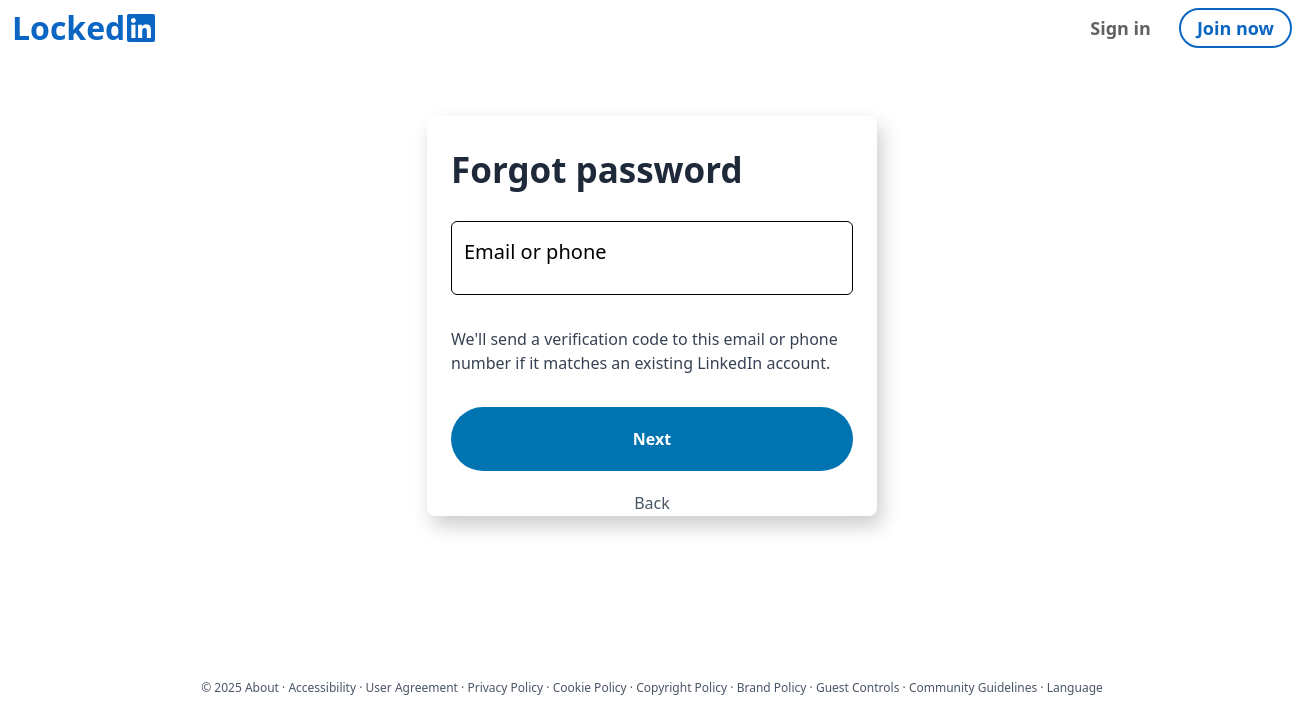
Test: ForgotPasswordForm › shows API error message for non-existent user
The width and height of the screenshot is (1304, 720).
Type "nonexistent@example.com" into the field with test id "email-input" at (652, 258), box [460,230,844,286]
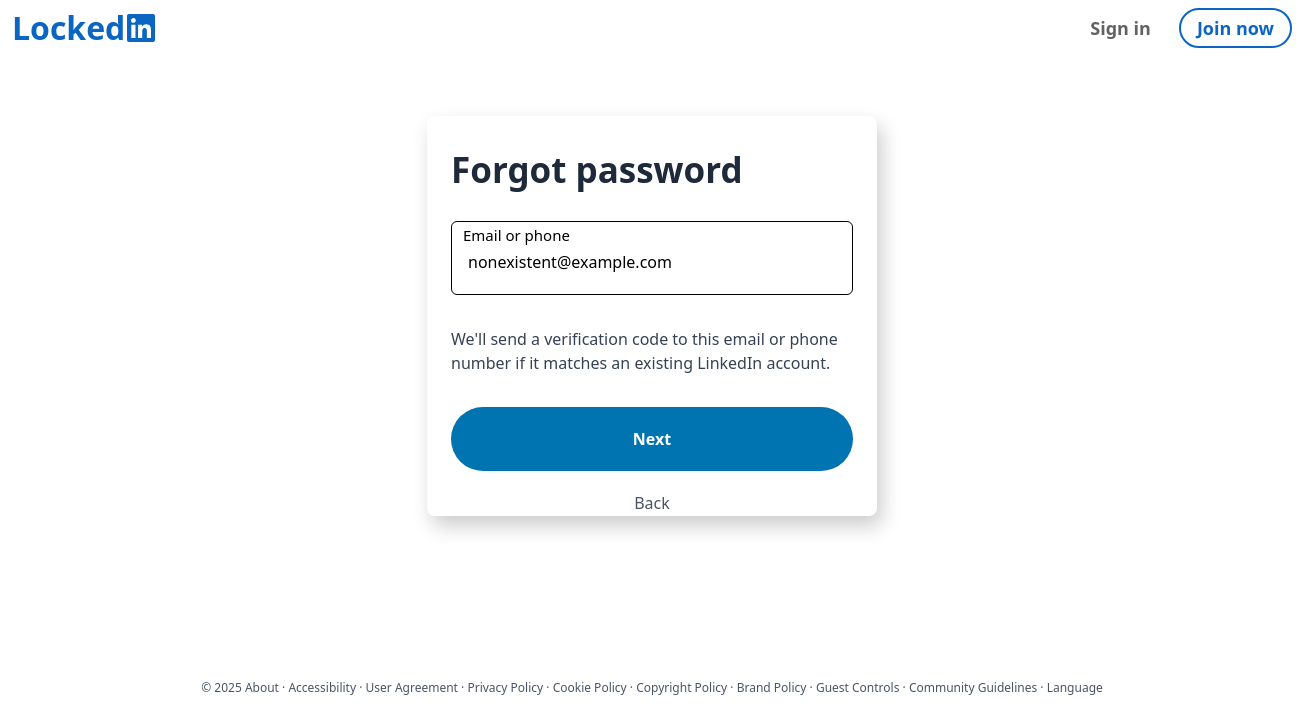
Click the button "Next" at (652, 438), box [451,406,853,470]
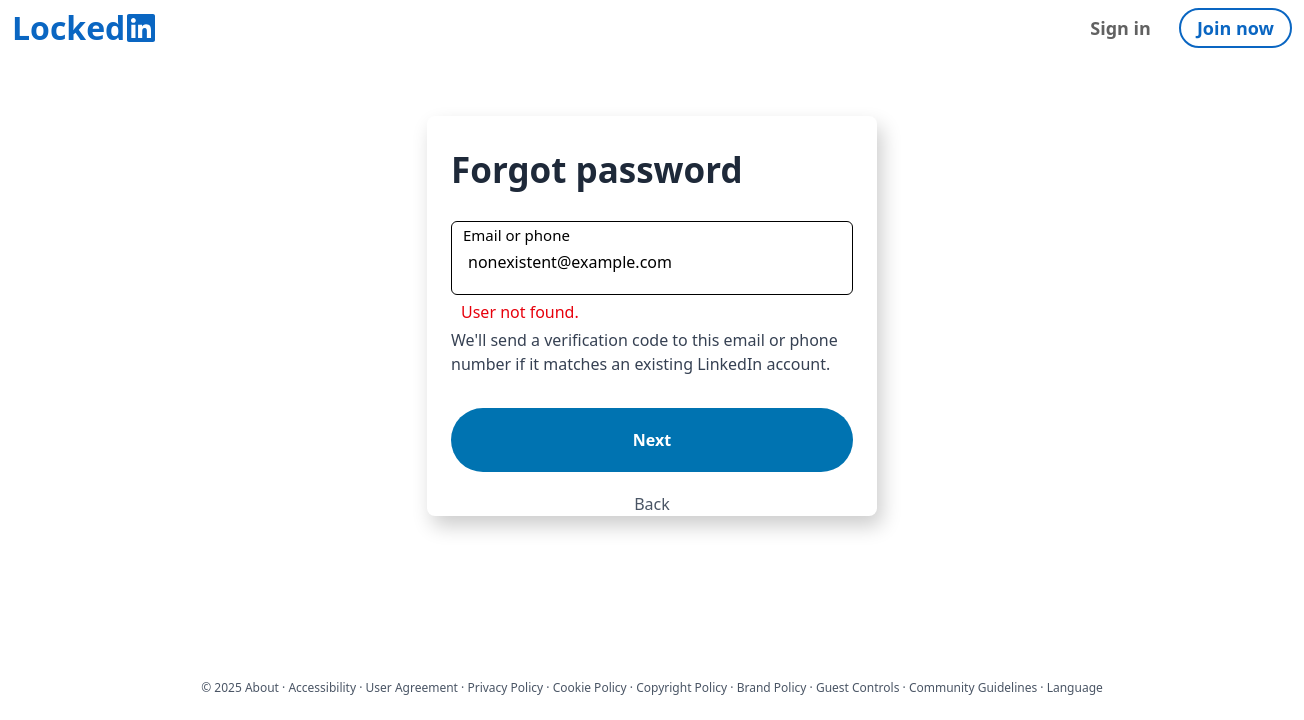
Now the text with test id "error-message" reads "User not found.", box [461,300,579,322]
